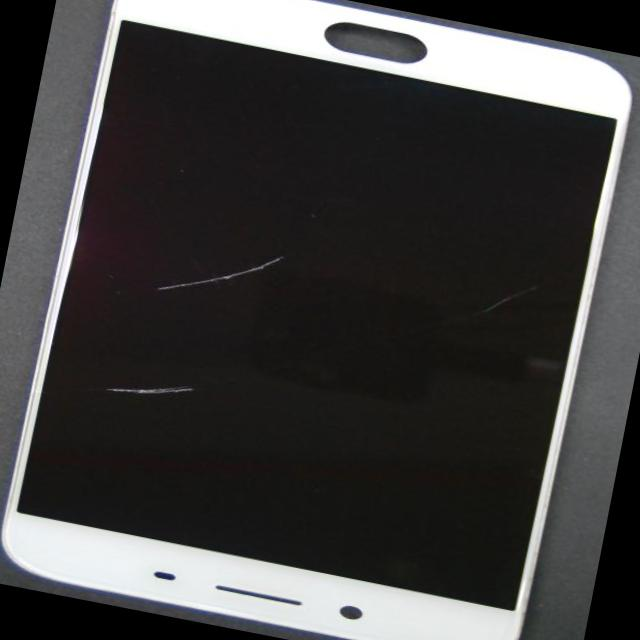scratch: (157, 232, 282, 312), (105, 370, 195, 408), (485, 274, 549, 322)
